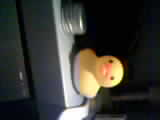duck: (65, 36, 121, 97)
